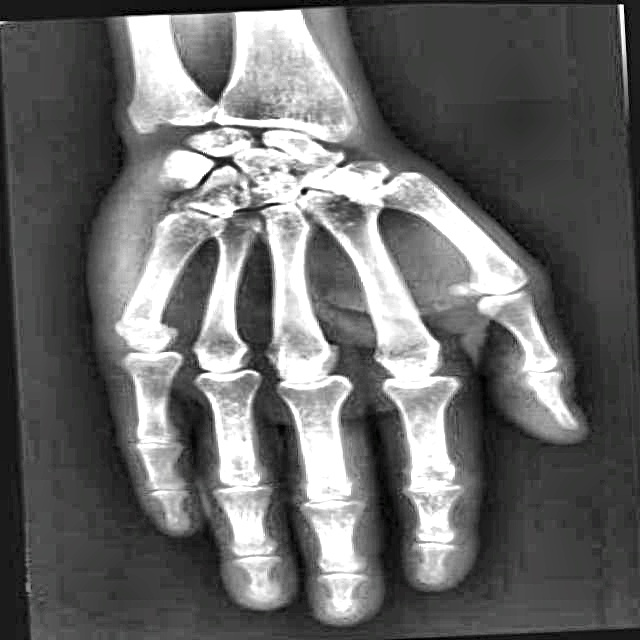Comminuted: (108, 299, 175, 348)
